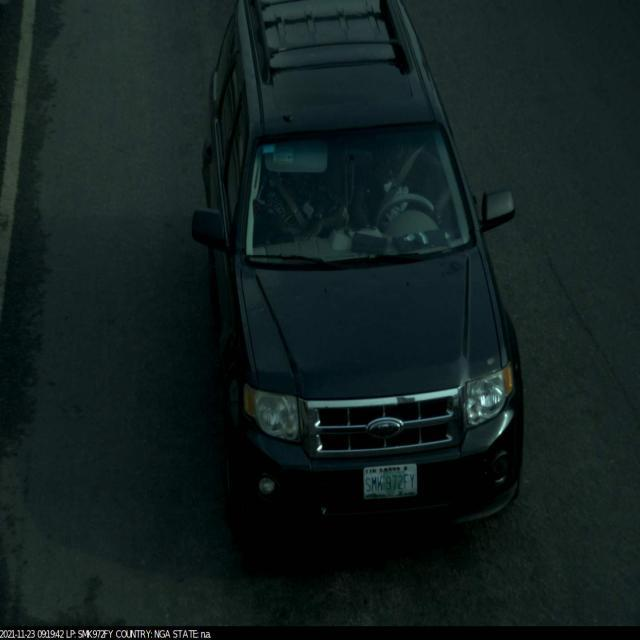windshield: (232, 120, 482, 276)
